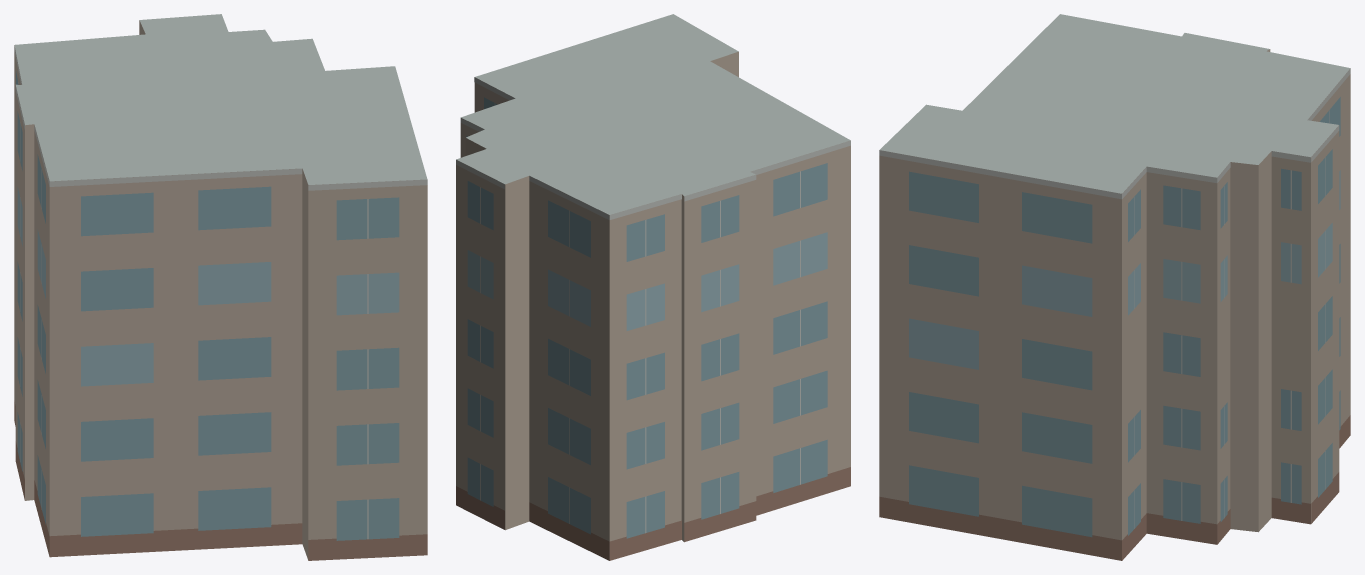
File: survey-upis-32652157.glb
3 views of the same model, side by side, from view 1: azimuth 30°, elevation 25°; view 2: azimuth 150°, elevation 25°; view 3: azimuth 270°, elevation 25° (orthographic). The views are drawn at different scales.
Visible parts, largest first — view 1: survey-upis-32652157.tmp; view 2: survey-upis-32652157.tmp; view 3: survey-upis-32652157.tmp.
Boxes of the visible parts, x1,y1,x2,y2 form: survey-upis-32652157.tmp: (14, 14, 427, 560); survey-upis-32652157.tmp: (456, 14, 850, 560); survey-upis-32652157.tmp: (879, 14, 1350, 560).
Size of the model in its own units: 16.98 by 16.15 by 18.8.
